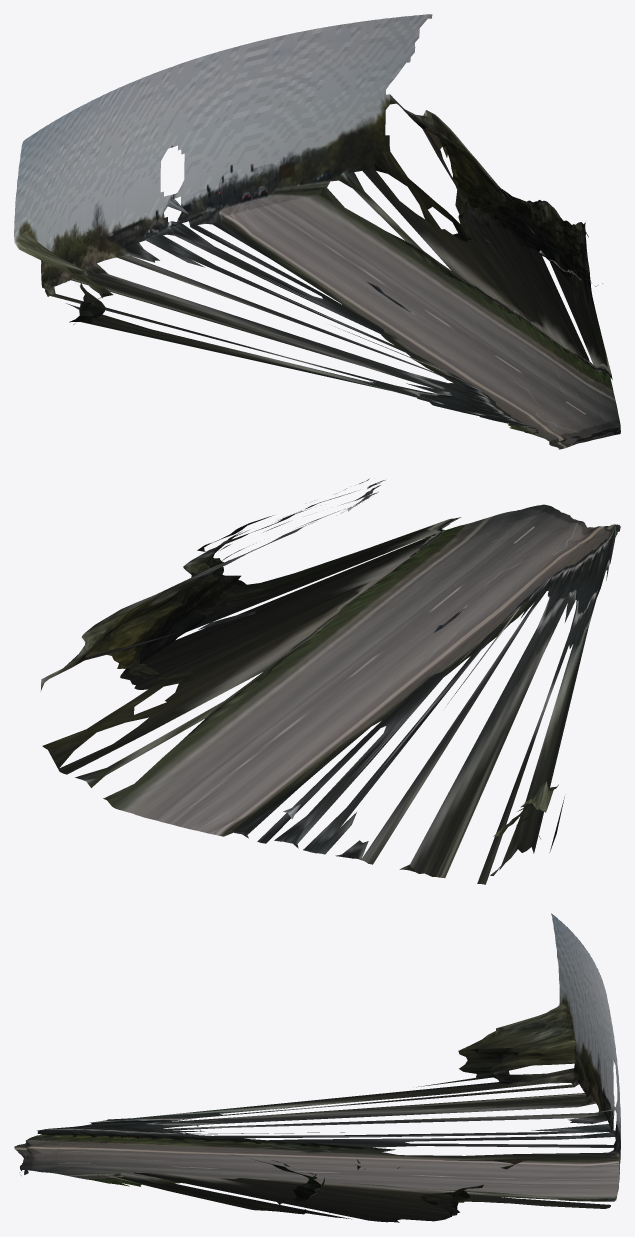
The picture shows the model from 3 angles, top to bottom: view 1: azimuth 30°, elevation 25°; view 2: azimuth 150°, elevation 25°; view 3: azimuth 270°, elevation 25°; orthographic projection. The views are drawn at different scales.
Parts seen in each view (by area): view 1: defaultobject; view 2: defaultobject; view 3: defaultobject.
Part boxes in pixels (x1=…): defaultobject: x1=14, y1=14, x2=620, y2=449; defaultobject: x1=40, y1=478, x2=620, y2=884; defaultobject: x1=14, y1=913, x2=620, y2=1222.
Bounding box in the file's own units: 33.16 × 13.32 × 44.65.
1 material, 1 textured.
